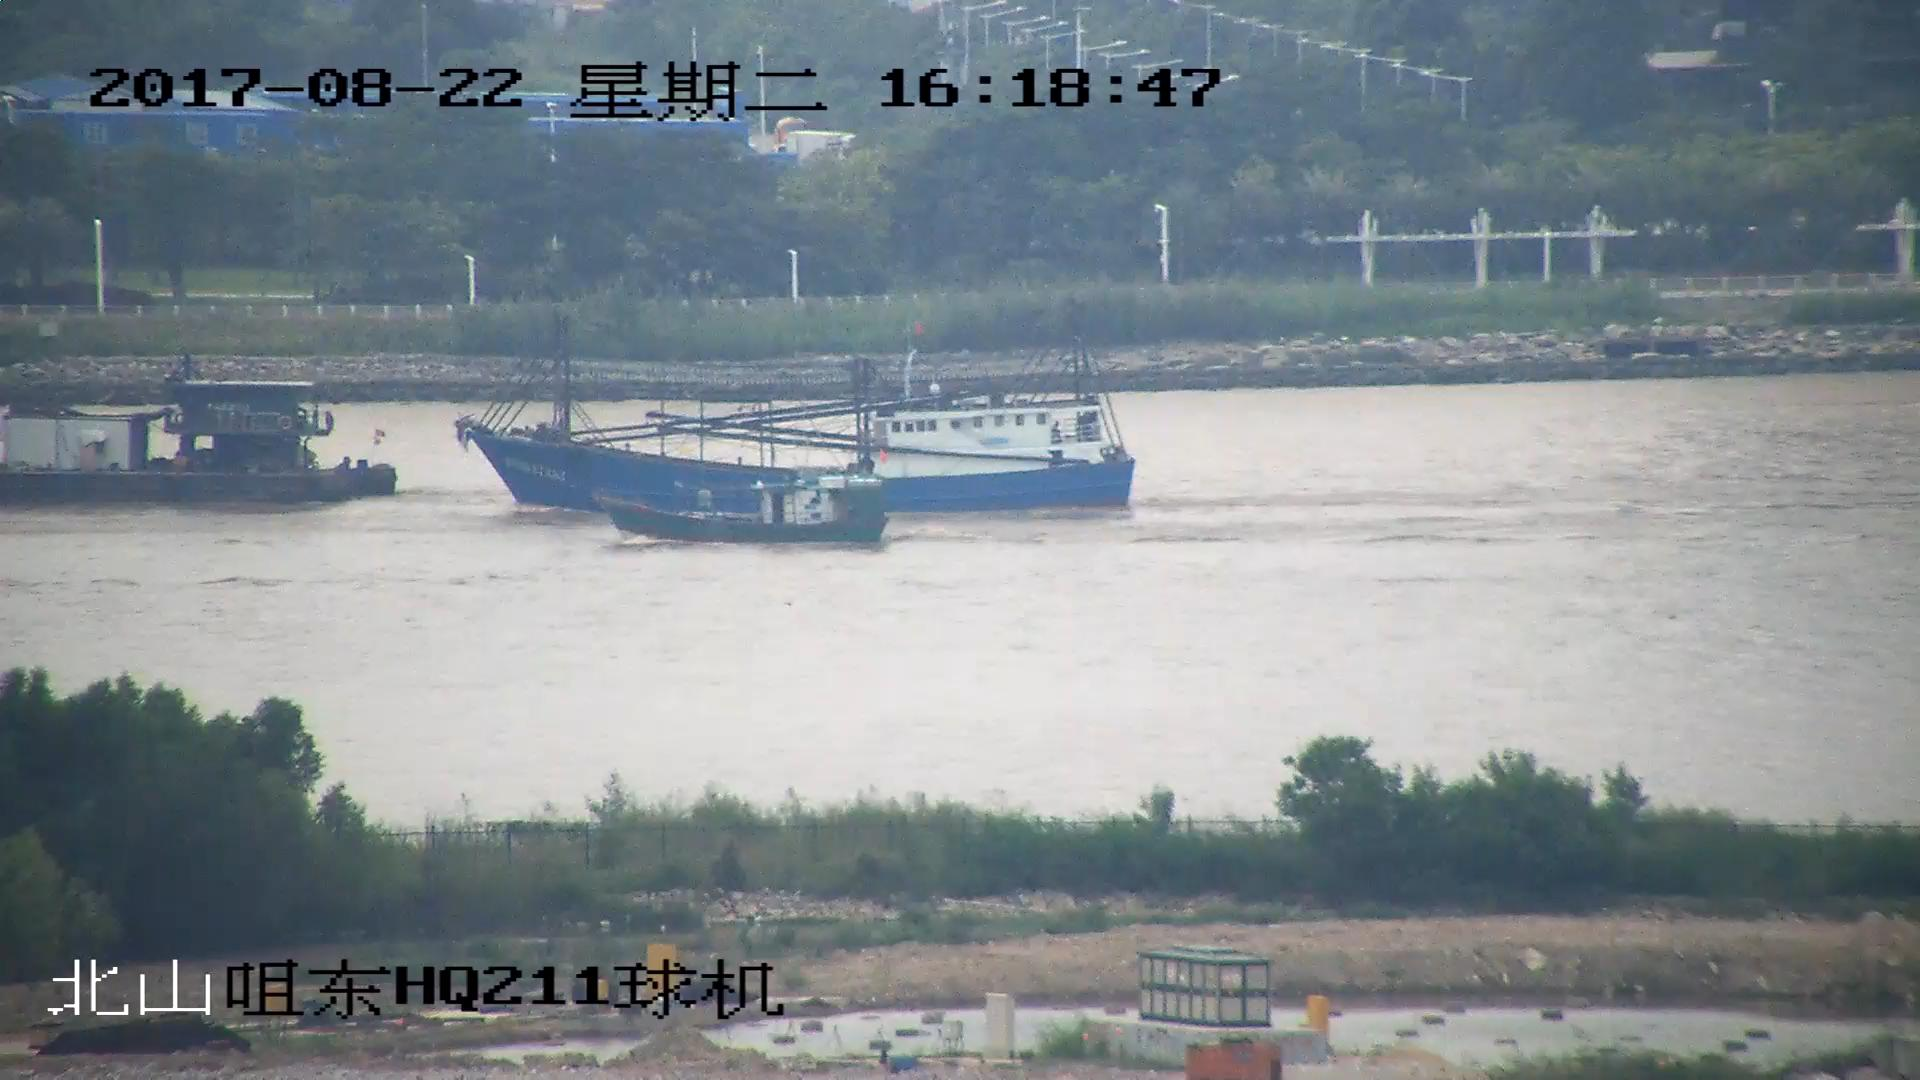bulk cargo carrier: (1, 377, 406, 505)
fishing boat: (448, 310, 1133, 522), (602, 459, 884, 546)
